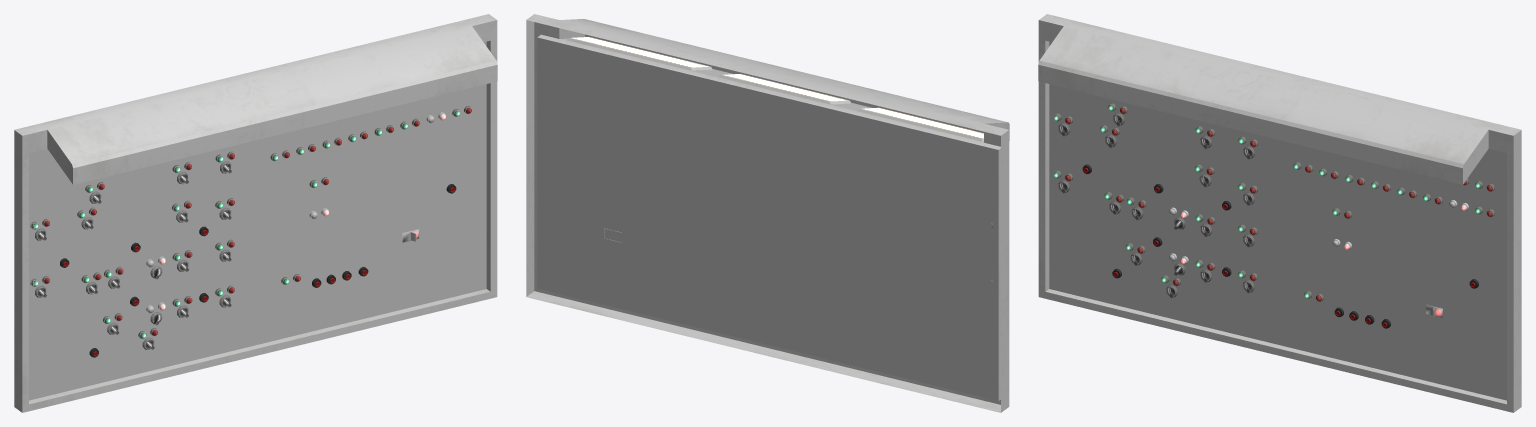
The model's file is SM_ControlPanel_02_B.fbx.
3 views of the same model, side by side, from view 1: azimuth 30°, elevation 25°; view 2: azimuth 150°, elevation 25°; view 3: azimuth 330°, elevation 25° (orthographic).
Visible parts, largest first — view 1: SM_ControlPanel_02_B_LOD0; view 2: SM_ControlPanel_02_B_LOD0; view 3: SM_ControlPanel_02_B_LOD0.
Part boxes in pixels (x1,y1,x2,y2): SM_ControlPanel_02_B_LOD0: (14,14,497,412); SM_ControlPanel_02_B_LOD0: (526,14,1009,412); SM_ControlPanel_02_B_LOD0: (1038,14,1521,412).
Bounding box in the file's own units: 214 × 26.43 × 119.
